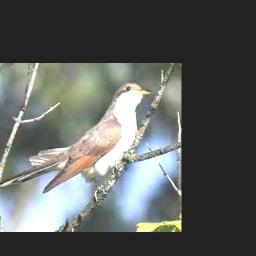Cuckoo: (29, 83, 151, 194)
